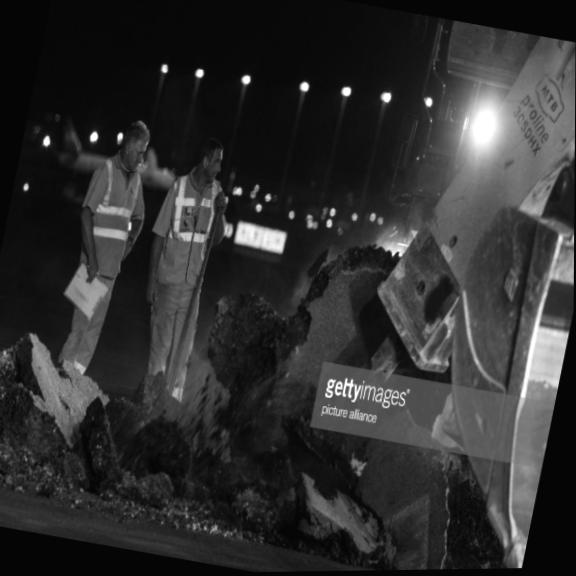safety_vest: (67, 157, 157, 294), (145, 169, 233, 300)
